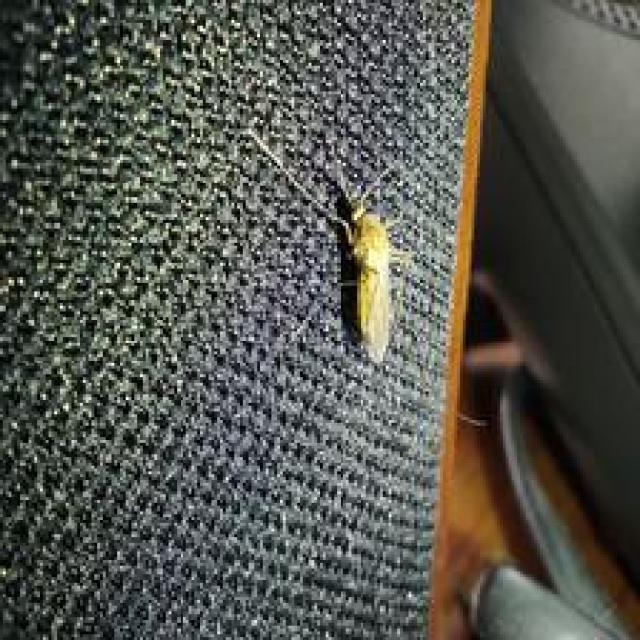Culex: (332, 188, 412, 366)
